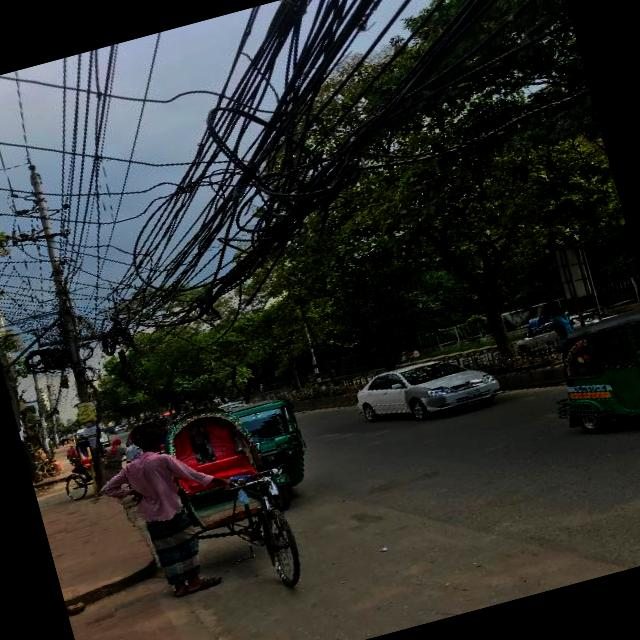car: (350, 340, 510, 434), (114, 422, 130, 434)
motorcycle: (154, 390, 308, 610), (538, 303, 640, 443), (218, 391, 324, 518), (510, 302, 623, 356), (56, 434, 104, 501), (526, 312, 552, 330)
